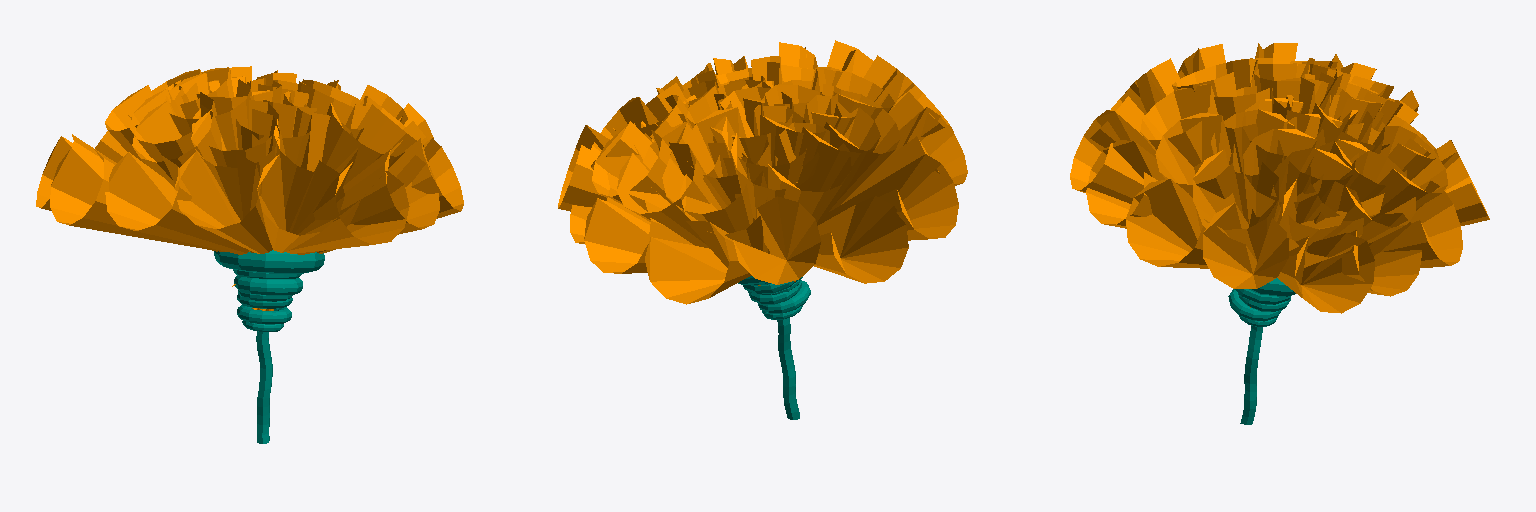
3 views of the same model, side by side, from view 1: azimuth 30°, elevation 25°; view 2: azimuth 150°, elevation 25°; view 3: azimuth 270°, elevation 25° (orthographic).
Visible parts, largest first — view 1: group[number redacted], group[number redacted], group[number redacted], group[number redacted], group[number redacted], group[number redacted], group[number redacted], group[number redacted], group[number redacted], group[number redacted], group[number redacted], group[number redacted] (+18 smaller); view 2: group[number redacted], group[number redacted], group[number redacted], group[number redacted], group[number redacted], group[number redacted], group[number redacted], group[number redacted], group[number redacted], group[number redacted], group[number redacted], group[number redacted] (+25 smaller); view 3: group[number redacted], group[number redacted], group[number redacted], group[number redacted], group[number redacted], group[number redacted], group[number redacted], group[number redacted], group[number redacted], group[number redacted], group[number redacted], group[number redacted] (+28 smaller).
Part boxes in pixels (left/top/right/bottom): group[number redacted]: left=105, top=152, right=248, bottom=254; group[number redacted]: left=174, top=151, right=272, bottom=253; group[number redacted]: left=50, top=148, right=224, bottom=251; group[number redacted]: left=297, top=149, right=439, bottom=254; group[number redacted]: left=257, top=154, right=344, bottom=252; group[number redacted]: left=287, top=162, right=409, bottom=253; group[number redacted]: left=272, top=113, right=357, bottom=231; group[number redacted]: left=132, top=101, right=226, bottom=187; group[number redacted]: left=317, top=138, right=463, bottom=253; group[number redacted]: left=322, top=103, right=404, bottom=184; group[number redacted]: left=191, top=109, right=279, bottom=252; group[number redacted]: left=214, top=250, right=324, bottom=273; group[number redacted]: left=814, top=196, right=908, bottom=283; group[number redacted]: left=645, top=221, right=751, bottom=304; group[number redacted]: left=821, top=154, right=958, bottom=240; group[number redacted]: left=733, top=196, right=821, bottom=284; group[number redacted]: left=584, top=194, right=694, bottom=273; group[number redacted]: left=617, top=142, right=760, bottom=285; group[number redacted]: left=799, top=95, right=880, bottom=225; group[number redacted]: left=841, top=107, right=967, bottom=204; group[number redacted]: left=824, top=90, right=900, bottom=211; group[number redacted]: left=768, top=122, right=851, bottom=221; group[number redacted]: left=685, top=107, right=771, bottom=206; group[number redacted]: left=662, top=143, right=752, bottom=233; group[number redacted]: left=1126, top=179, right=1211, bottom=268; group[number redacted]: left=1277, top=233, right=1374, bottom=313; group[number redacted]: left=1203, top=203, right=1288, bottom=288; group[number redacted]: left=1070, top=110, right=1155, bottom=203; group[number redacted]: left=1155, top=113, right=1242, bottom=213; group[number redacted]: left=1381, top=180, right=1462, bottom=267; group[number redacted]: left=1342, top=213, right=1421, bottom=296; group[number redacted]: left=1193, top=149, right=1278, bottom=261; group[number redacted]: left=1140, top=84, right=1217, bottom=166; group[number redacted]: left=1371, top=126, right=1447, bottom=218; group[number redacted]: left=1086, top=140, right=1164, bottom=228; group[number redacted]: left=1271, top=148, right=1351, bottom=245.
Size of the model in its own units: 0.3101 by 0.2697 by 0.2996.